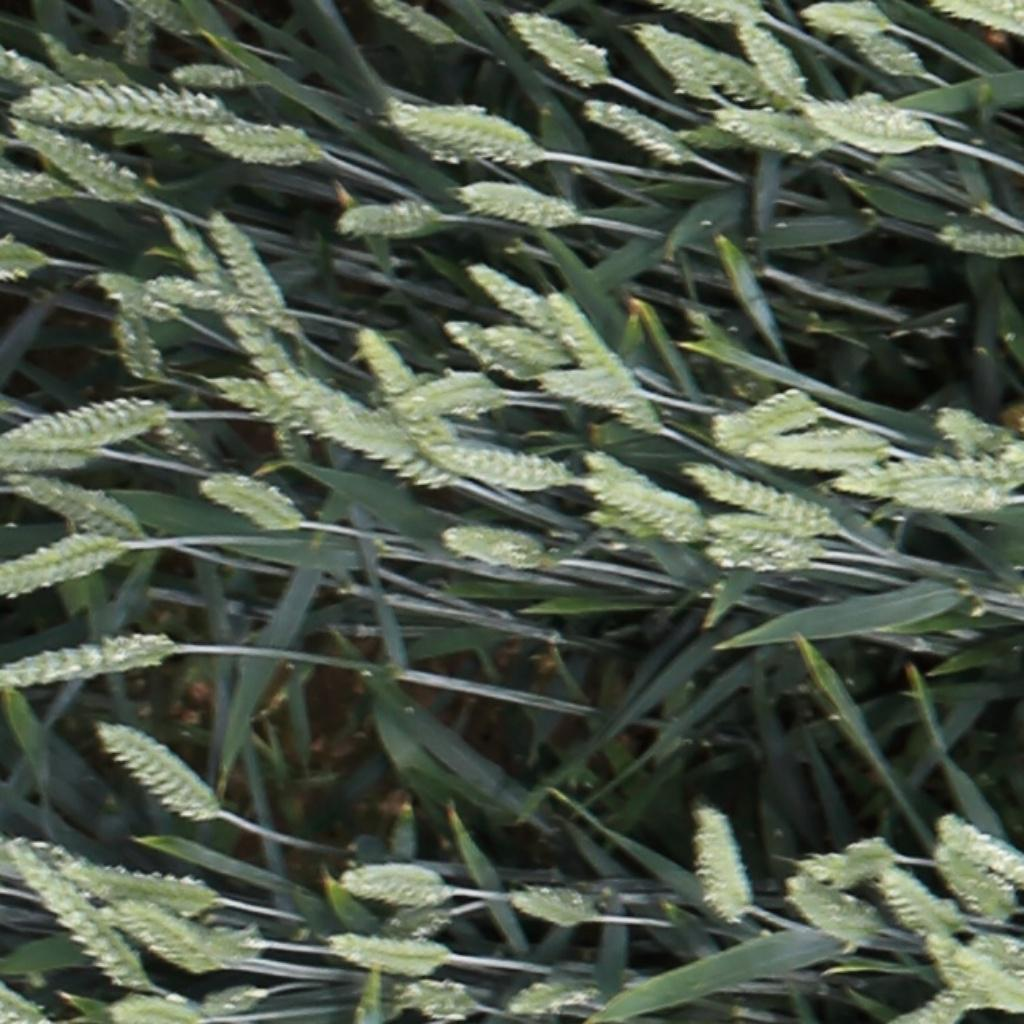0-0: (162, 210, 324, 442), (4, 831, 156, 992), (284, 373, 451, 488), (548, 293, 669, 435), (356, 322, 475, 460), (76, 866, 221, 972), (638, 26, 808, 115), (678, 457, 853, 535), (97, 718, 223, 820), (6, 115, 141, 205), (12, 83, 245, 131), (213, 213, 302, 336), (0, 630, 178, 691), (1, 462, 143, 536), (206, 367, 343, 443), (392, 99, 547, 166), (63, 859, 219, 917), (577, 94, 697, 167), (829, 455, 1024, 499), (807, 94, 941, 158), (423, 436, 570, 494), (0, 398, 169, 448), (692, 804, 760, 927), (588, 471, 704, 543), (0, 531, 120, 600), (509, 10, 610, 90), (196, 463, 305, 533), (781, 873, 889, 943), (711, 385, 821, 451), (580, 451, 688, 517), (780, 823, 905, 880), (907, 929, 1008, 998), (631, 22, 718, 102), (466, 261, 562, 333), (929, 840, 1013, 921), (452, 176, 578, 229), (714, 102, 829, 160), (937, 810, 1022, 887), (148, 272, 276, 323), (448, 311, 539, 379), (436, 524, 551, 577), (325, 933, 460, 977), (135, 392, 213, 468), (736, 29, 814, 105), (873, 867, 959, 933), (205, 121, 325, 167), (827, 25, 927, 79), (745, 428, 895, 462), (112, 298, 170, 385), (706, 505, 844, 541), (667, 114, 776, 158), (98, 269, 185, 323), (928, 405, 1023, 454), (882, 966, 962, 1024), (341, 863, 452, 903), (899, 480, 1014, 518), (950, 953, 1024, 1012), (369, 901, 458, 950), (370, 0, 468, 44), (539, 368, 634, 413), (705, 534, 823, 570), (785, 0, 890, 39), (509, 883, 600, 926), (334, 201, 441, 237), (478, 325, 571, 366), (401, 378, 509, 413), (394, 981, 487, 1021), (0, 433, 103, 467), (506, 974, 594, 1011), (200, 978, 273, 1020), (937, 226, 1024, 261), (106, 993, 203, 1024), (0, 166, 72, 205), (648, 0, 759, 24), (0, 49, 62, 91), (165, 61, 248, 90), (136, 0, 202, 36), (396, 102, 494, 125), (0, 231, 47, 276), (122, 10, 149, 68)
